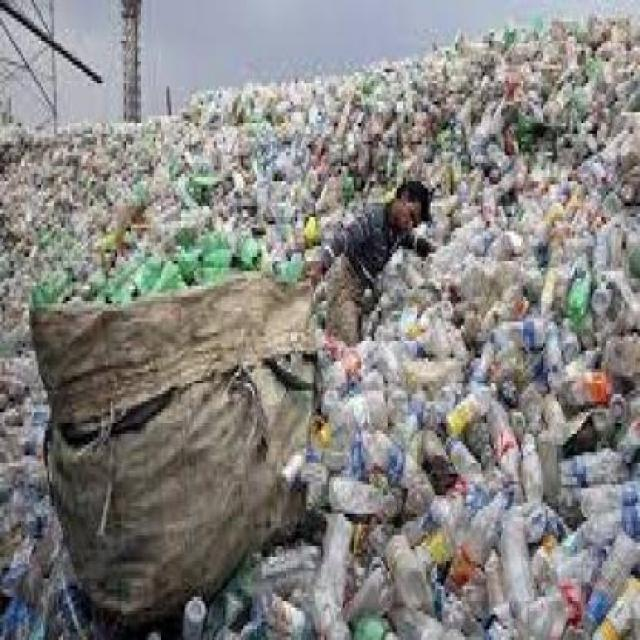garbage: (0, 116, 313, 637), (291, 315, 638, 634), (426, 22, 638, 366), (205, 75, 464, 172)
